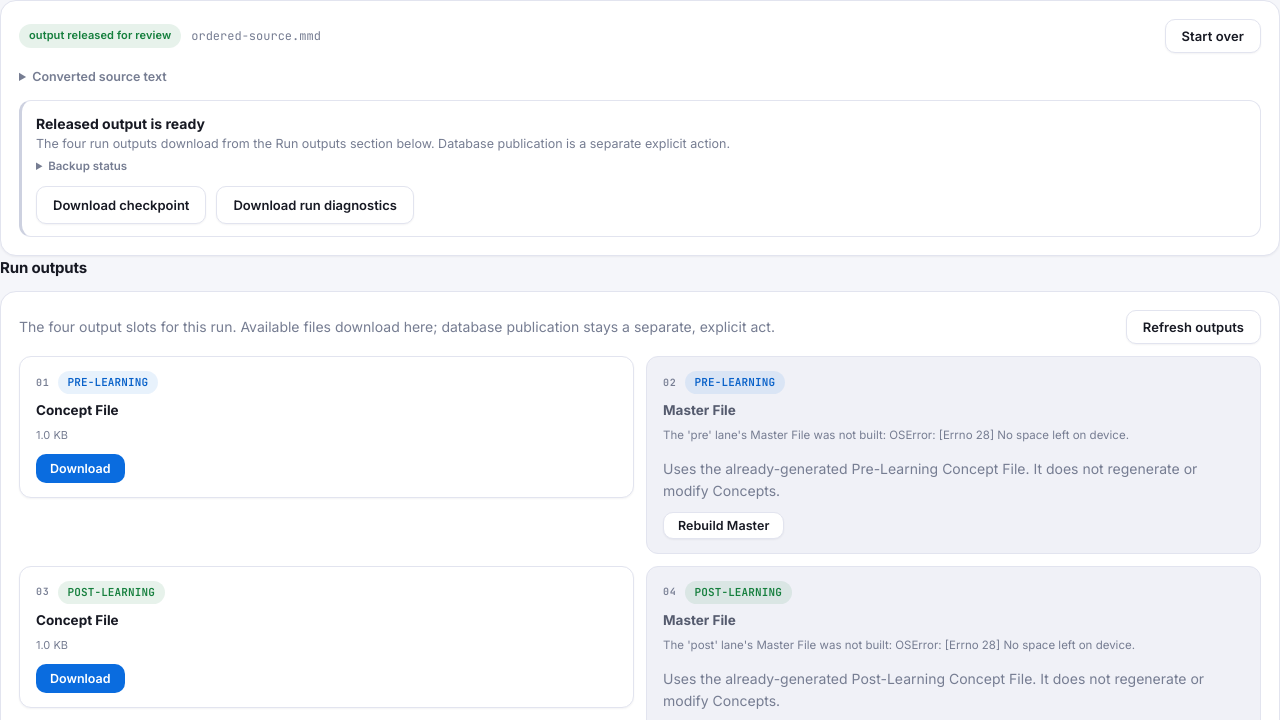
Test: rebuilds only the disabled pre Master and refreshes its Download
Click the button with aria-label "Rebuild Pre-Learning Master File". click: [724, 525]
box: [663, 512, 784, 539]
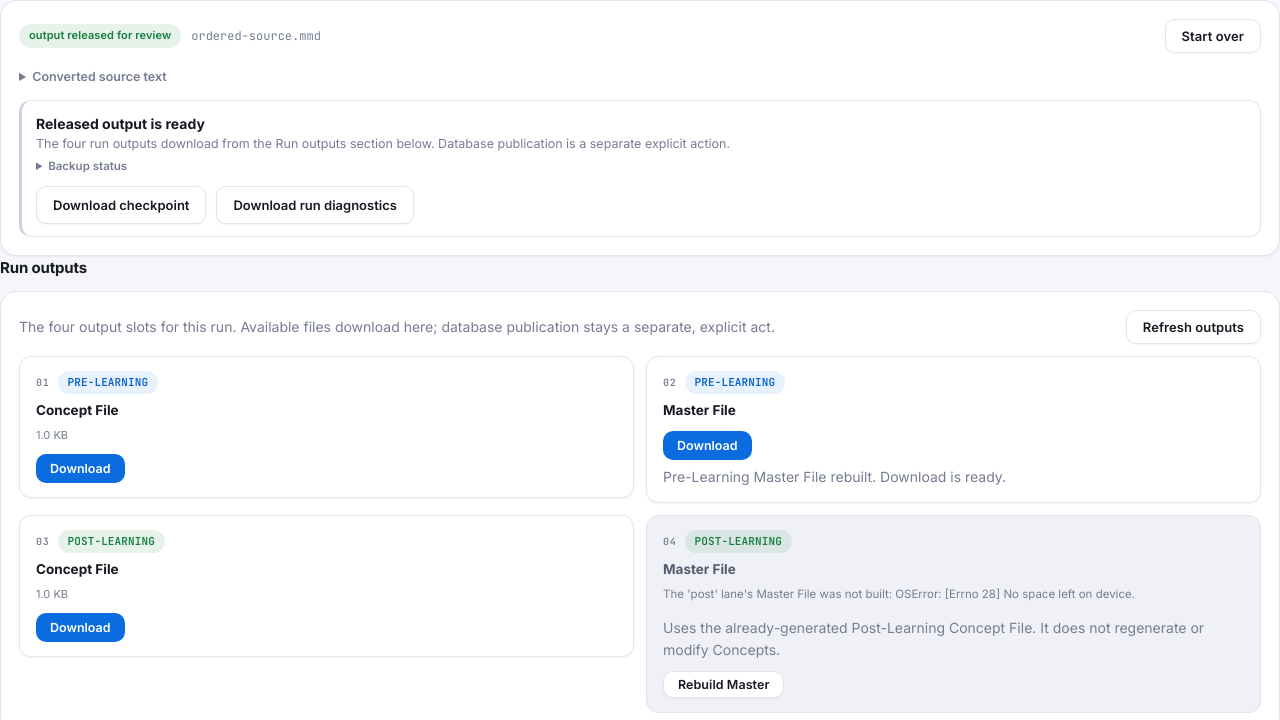
expect the link with aria-label "Download the Pre-Learning Master File" is shown: met, box [663, 431, 752, 460]
